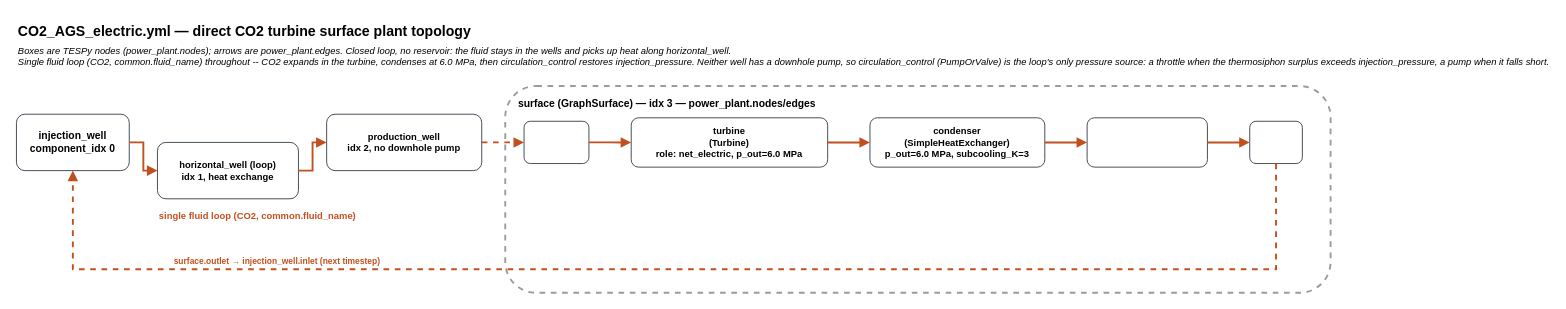
Some shapes in this 1566 by 309 pixel diagram are drawn without their labels. Here are the shapes that lost their labels. From the top down, the centre of each, then its label:
At (x=556, y=142): "inlet (Source)".
At (x=1146, y=142): "circulation_control (PumpOrValve) role: net_electric".
At (x=1275, y=142): "outlet (Sink)".
